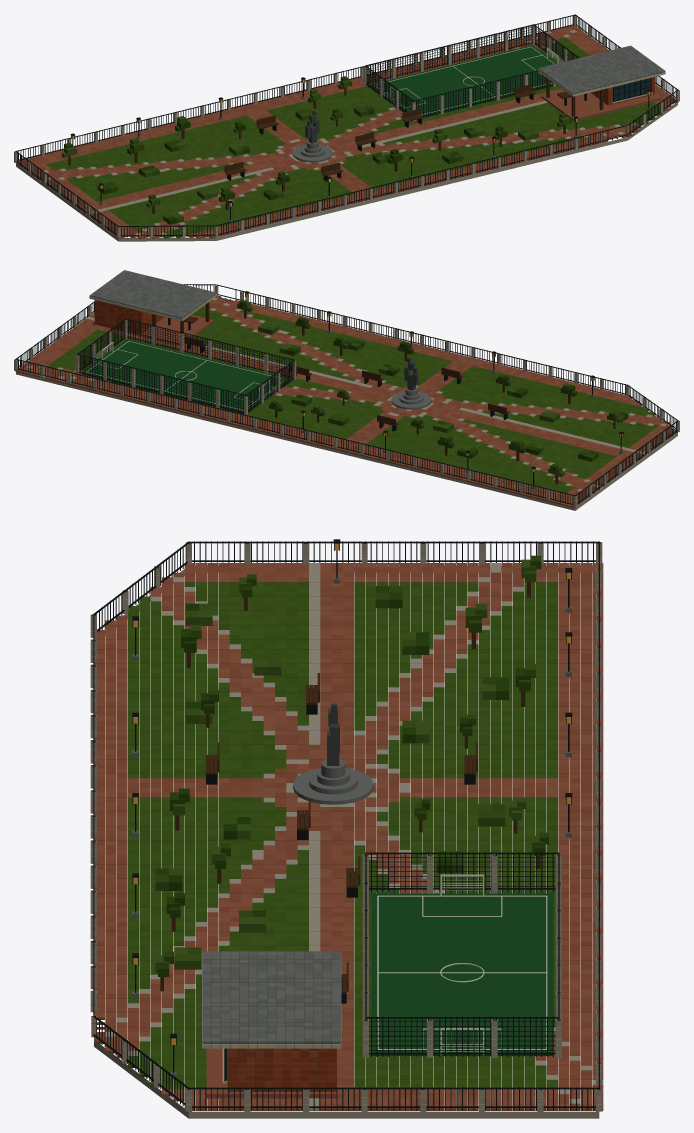
File: SM_StreetFrontage_089.fbx
The picture shows the model from 3 angles, top to bottom: view 1: azimuth 30°, elevation 25°; view 2: azimuth 150°, elevation 25°; view 3: azimuth 270°, elevation 25°; orthographic projection. The views are drawn at different scales.
Visible parts, largest first — view 1: SM_StreetFrontage_089; view 2: SM_StreetFrontage_089; view 3: SM_StreetFrontage_089.
Boxes of the visible parts, x1,y1,x2,y2 form: SM_StreetFrontage_089: (14, 14, 679, 241); SM_StreetFrontage_089: (14, 270, 679, 510); SM_StreetFrontage_089: (90, 539, 603, 1118).
Bounding box in the file's own units: 80 × 31.59 × 6.45.
